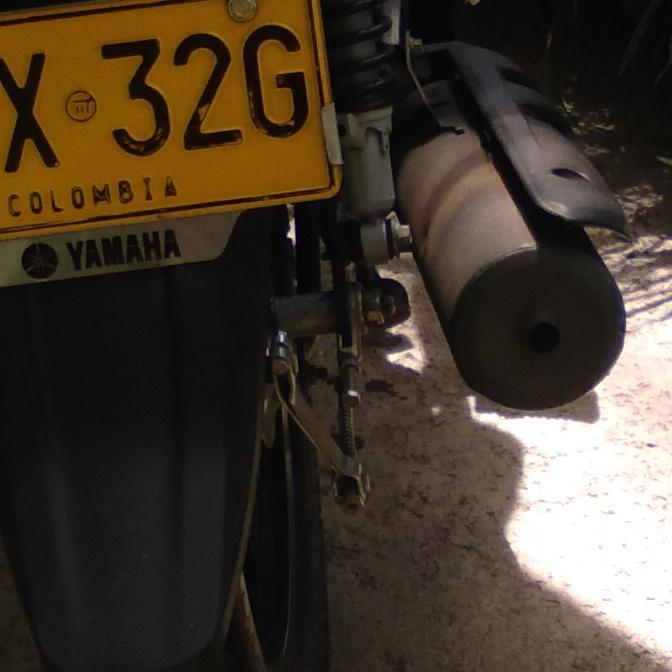plates: (0, 0, 349, 246)
